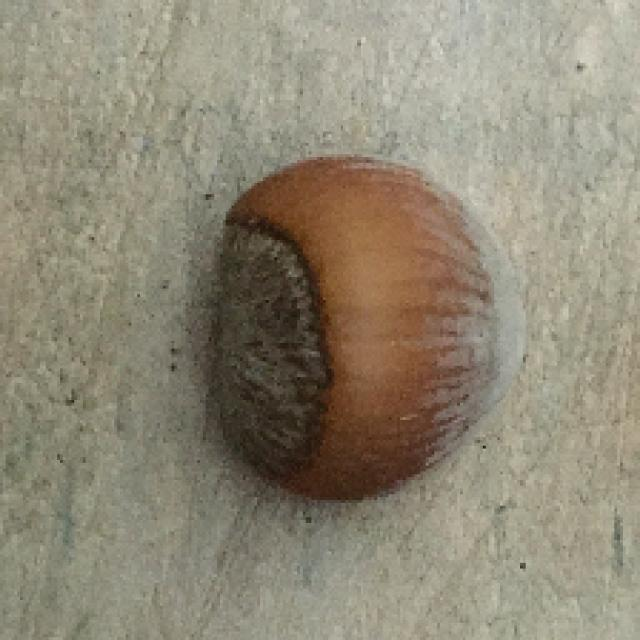qualityHazelnut: (185, 150, 519, 504)
